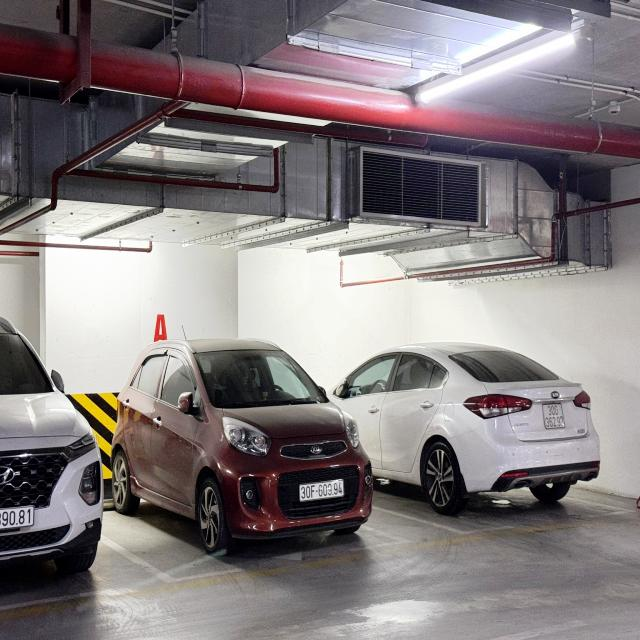license_plate: (298, 478, 348, 505), (541, 401, 570, 435)
